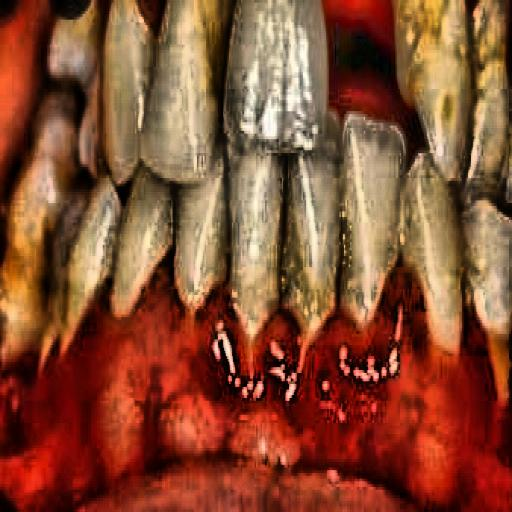Gingivitis: (41, 322, 334, 510)
